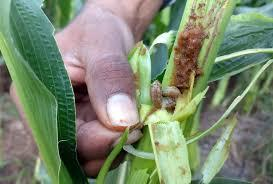fallarmy_worm: (150, 79, 180, 111)
